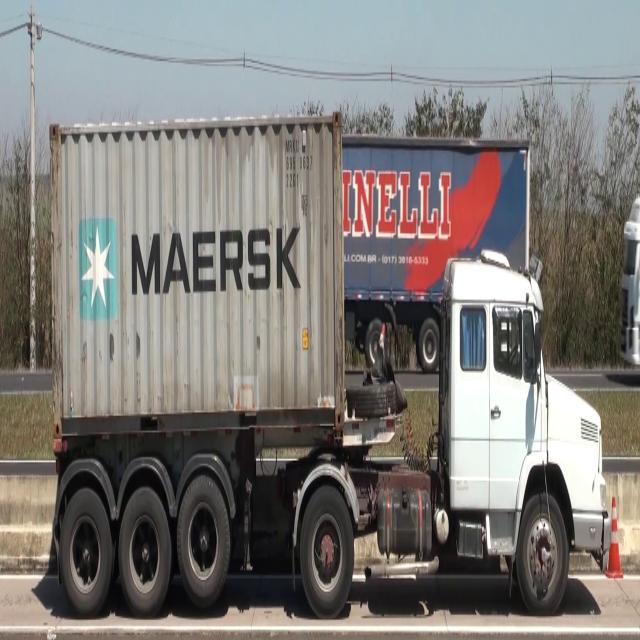-axle: (301, 483, 356, 622), (117, 484, 173, 620), (178, 475, 233, 605), (59, 486, 113, 617), (516, 494, 570, 617)
